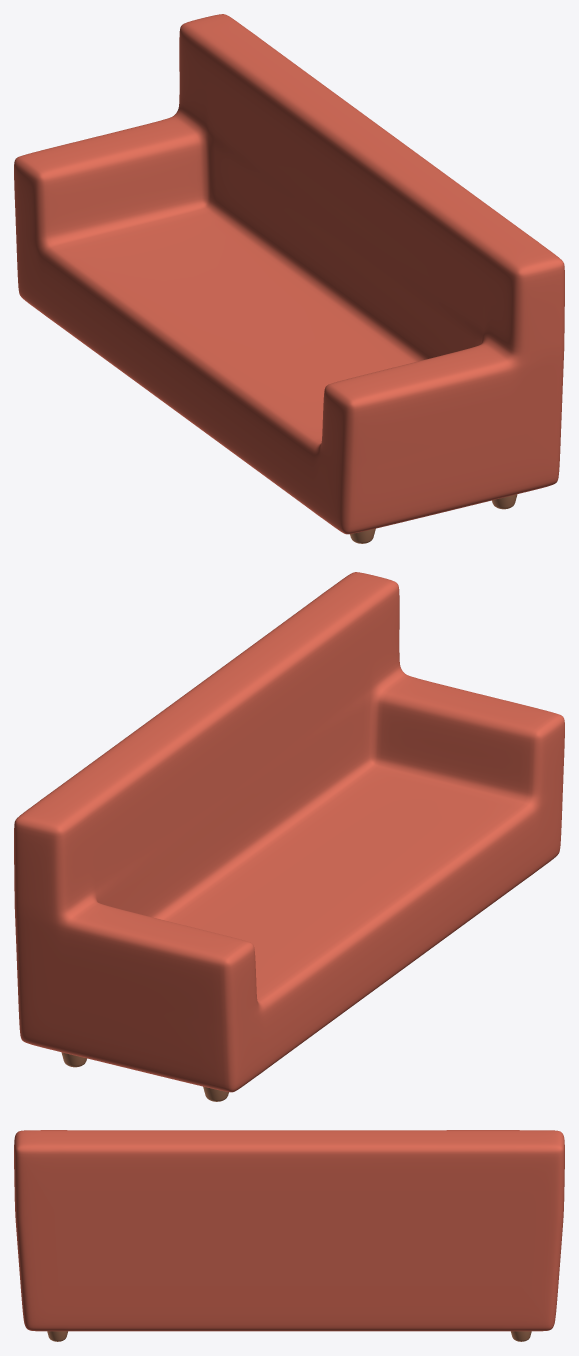
The model's file is sofa.fbx.
The picture shows the model from 3 angles, top to bottom: view 1: azimuth 30°, elevation 25°; view 2: azimuth 150°, elevation 25°; view 3: azimuth 270°, elevation 25°; orthographic projection. The views are drawn at different scales.
Visible parts, largest first — view 1: Sofa; view 2: Sofa; view 3: Sofa, Sofa Stand.
Part boxes in pixels (<box>): Sofa: <box>14,14,564,534</box>; Sofa: <box>14,572,564,1092</box>; Sofa: <box>14,1130,564,1331</box>; Sofa Stand: <box>47,1331,531,1341</box>.
Bounding box in the file's own units: 338 × 380 × 914.
